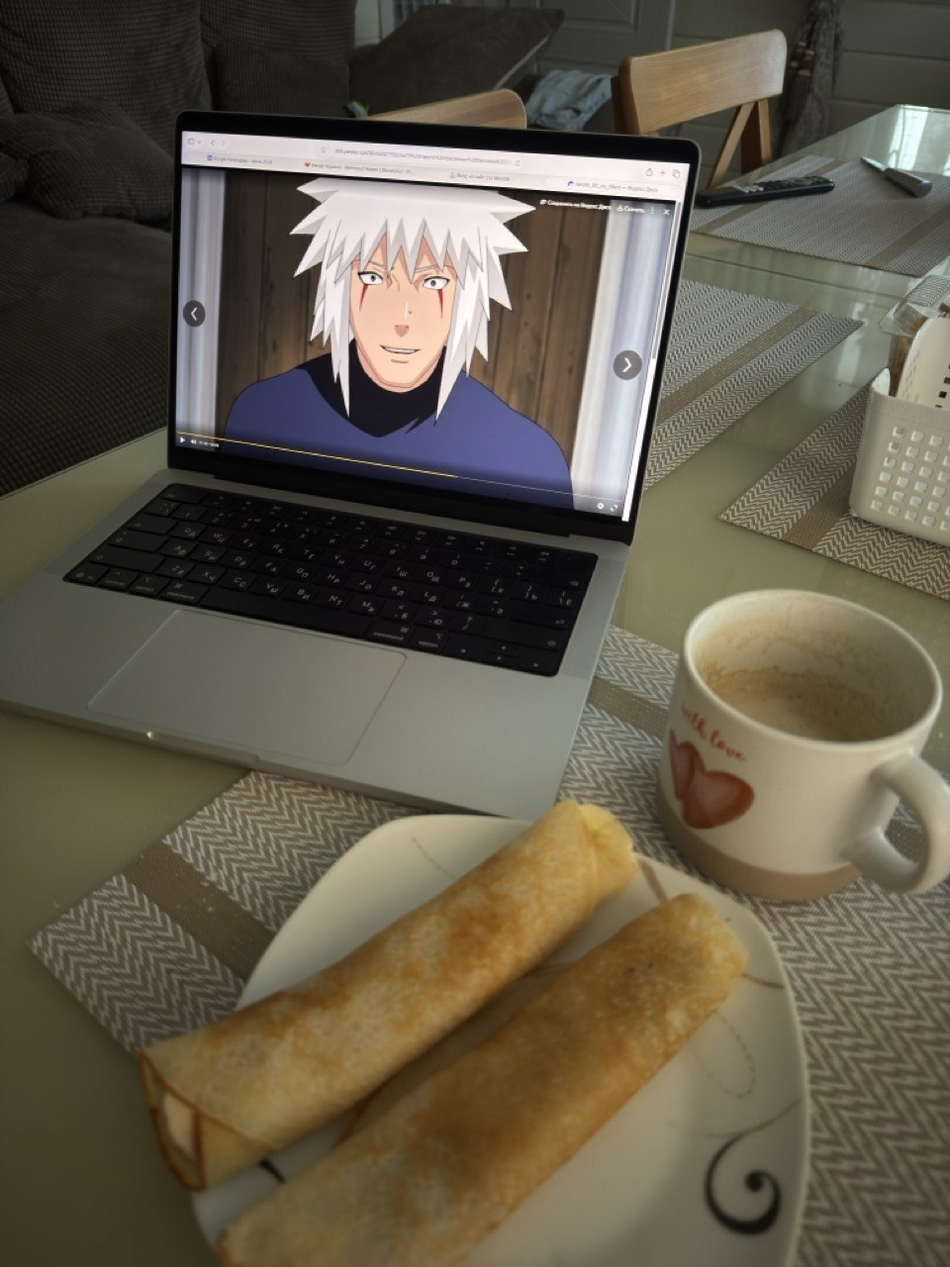laptop: (1, 109, 701, 820)
